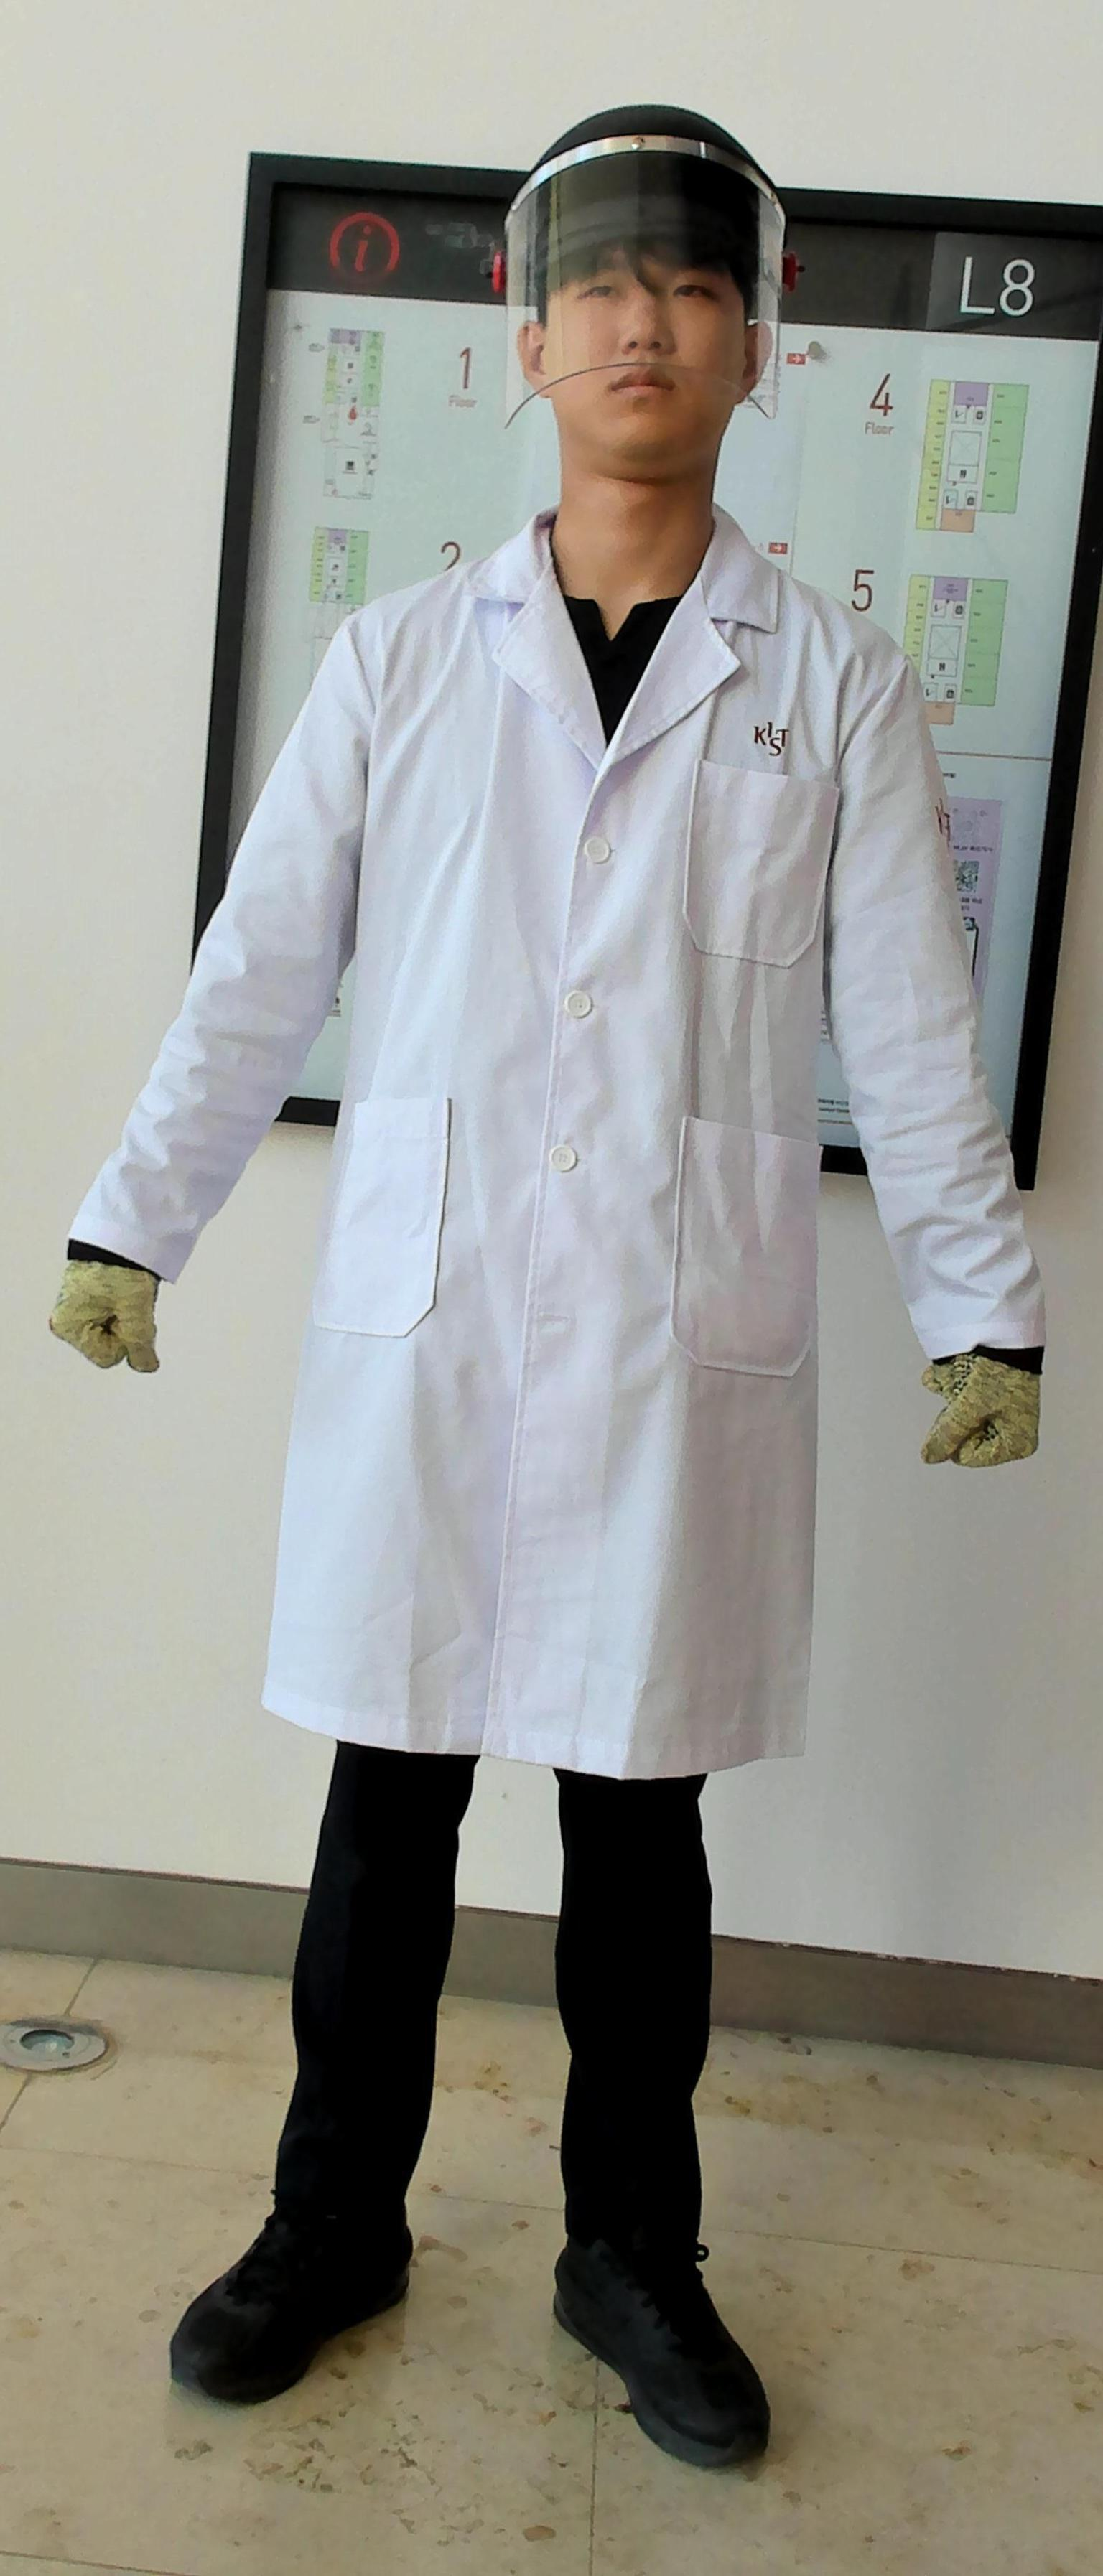lab_coat: (273, 598, 856, 1733)
